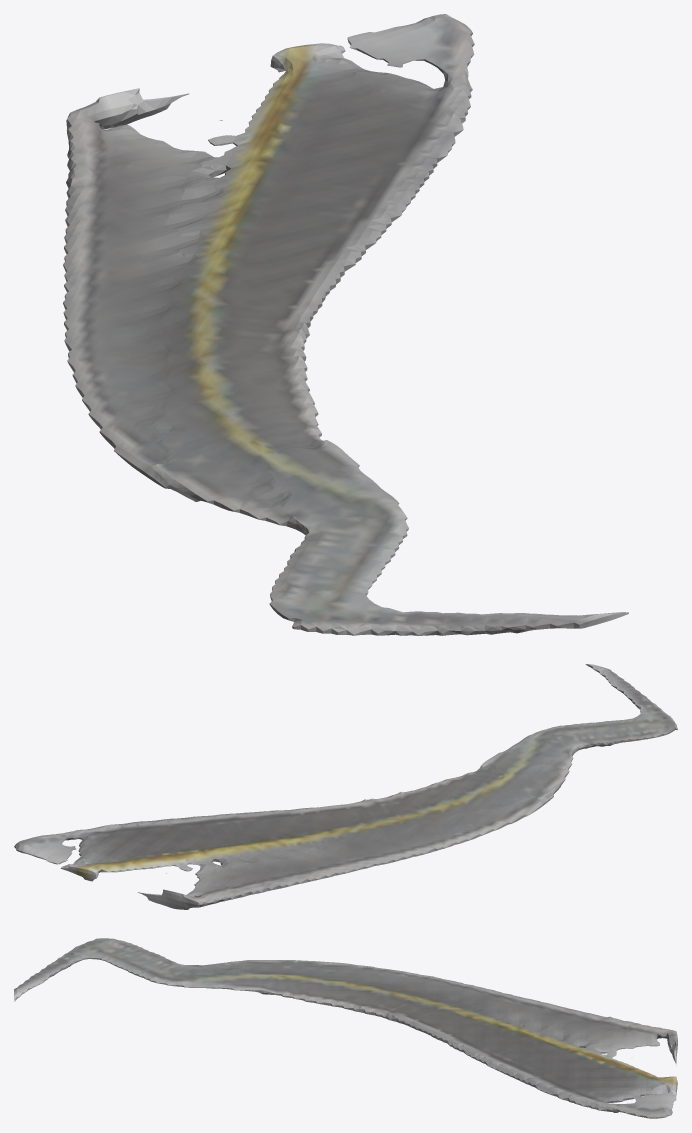
The model's file is color_mesh.glb.
3 renders of one model, top to bottom at view 1: azimuth 30°, elevation 25°; view 2: azimuth 150°, elevation 25°; view 3: azimuth 270°, elevation 25°, orthographic. The views are drawn at different scales.
Parts seen in each view (by area): view 1: world; view 2: world; view 3: world.
Boxes of the visible parts, x1,y1,x2,y2 form: world: [63, 14, 628, 635]; world: [14, 664, 677, 909]; world: [14, 938, 677, 1118].
Bounding box in the file's own units: 1.27 × 0.0693 × 1.97.
